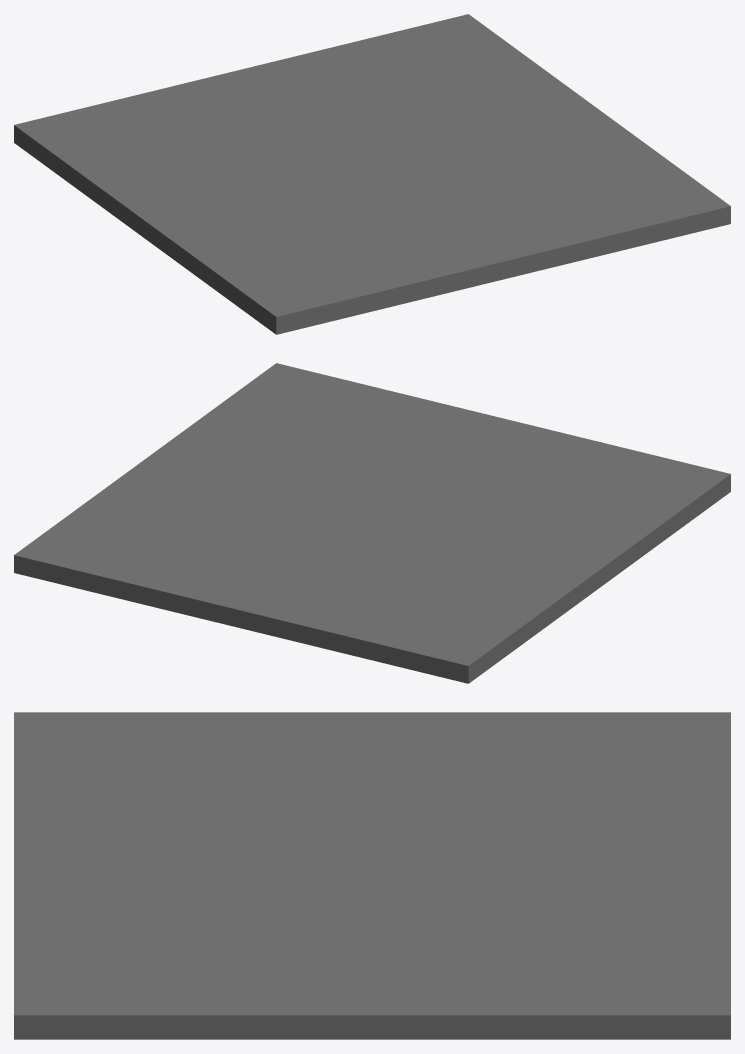
File: CeilingBrokenCenter.fbx
3 views of the same model, one above another, from view 1: azimuth 30°, elevation 25°; view 2: azimuth 150°, elevation 25°; view 3: azimuth 270°, elevation 25° (orthographic). The views are drawn at different scales.
Visible parts, largest first — view 1: CeilingBroken.041, CeilingBroken.044, CeilingBroken.043, CeilingBroken.040; view 2: CeilingBroken.041, CeilingBroken.044, CeilingBroken.043, CeilingBroken.040; view 3: CeilingBroken.041, CeilingBroken.044, CeilingBroken.043, CeilingBroken.040.
Part boxes in pixels (<box>): CeilingBroken.041: <box>258,89,730,334</box>; CeilingBroken.044: <box>14,74,387,320</box>; CeilingBroken.043: <box>388,14,603,113</box>; CeilingBroken.040: <box>223,25,422,88</box>; CeilingBroken.041: <box>150,363,730,546</box>; CeilingBroken.044: <box>207,480,722,683</box>; CeilingBroken.043: <box>14,456,206,588</box>; CeilingBroken.040: <box>60,547,277,637</box>; CeilingBroken.041: <box>14,712,575,1039</box>; CeilingBroken.044: <box>37,712,730,923</box>; CeilingBroken.043: <box>334,924,730,1039</box>; CeilingBroken.040: <box>576,851,730,984</box>.
Size of the model in its own units: 400 by 15 by 400.
